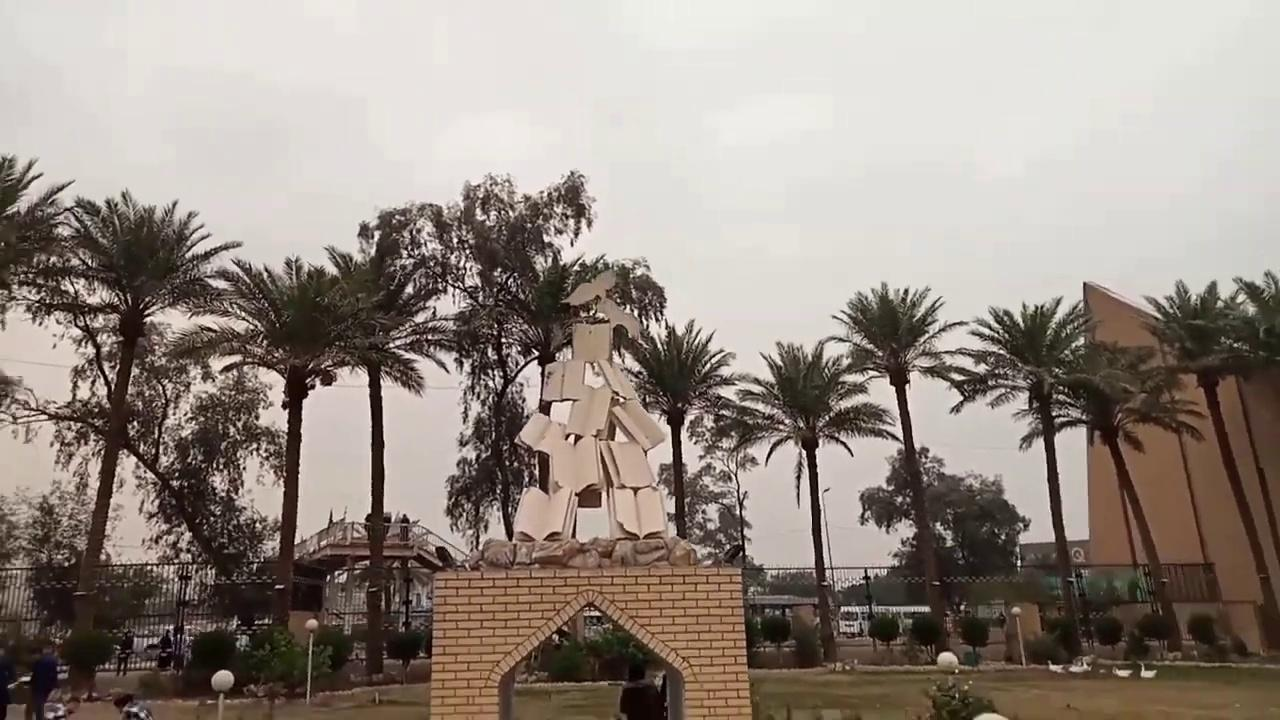car: (836, 607, 864, 637)
fountain: (935, 648, 959, 671)
person: (23, 639, 60, 719), (0, 641, 18, 719), (112, 692, 154, 719), (114, 629, 135, 676), (157, 629, 172, 669), (399, 513, 409, 541)
tree: (358, 168, 667, 550), (2, 185, 243, 604), (165, 252, 364, 629), (318, 236, 455, 676), (824, 281, 975, 659), (724, 337, 899, 662), (951, 294, 1100, 655), (1138, 275, 1278, 651), (1053, 336, 1206, 656), (858, 446, 1029, 644), (617, 318, 738, 539), (1218, 268, 1279, 565), (0, 151, 77, 331), (17, 491, 84, 637), (385, 626, 425, 683), (956, 613, 990, 667), (909, 611, 943, 662), (1135, 611, 1171, 659), (1186, 611, 1219, 660), (1092, 612, 1124, 651), (867, 612, 899, 650), (759, 612, 791, 650)
